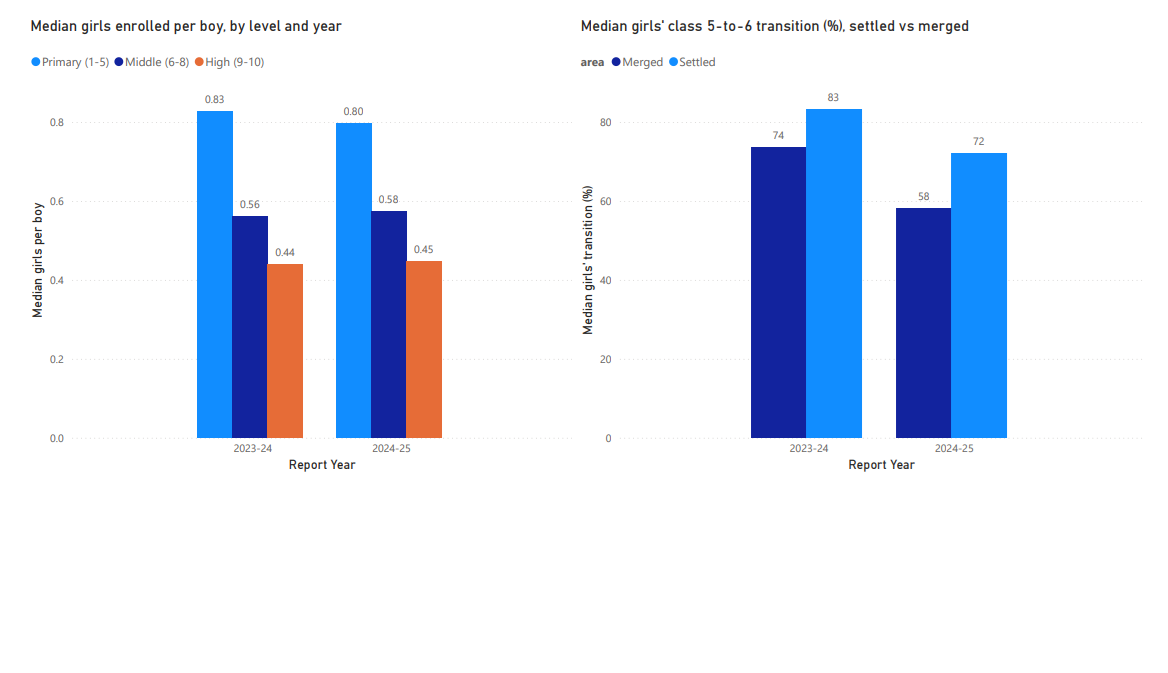

Layout of this report page (visuals, bound fields, positions):
{"tool":"powerbi","page":{"name":"Page 2","canvas":[1280,720],"ordinal":1},"visuals":[{"type":"clusteredColumnChart","title":"Median girls enrolled per boy, by level and year","fields":{"Category":["public v_unit_year.report_year"],"Y":["Median(public v_unit_year.gpb_primary)","Median(public v_unit_year.gpb_middle)","Median(public v_unit_year.gpb_high)"]},"box":[9.6,0,623,518.7],"z":0},{"type":"clusteredColumnChart","title":"Median girls'' class 5-to-6 transition (%), settled vs merged","fields":{"Category":["public v_unit_year.report_year"],"Series":["public v_unit_year.area"],"Y":["Median(public v_unit_year.trans_girls)"]},"box":[632.6,0,647.7,518.7],"z":1}]}

Visuals, with their boxes in screenshot pixels (x1, y1, x2, y2), scaled from the page's 1280x720 canvas onto the 1168x673 screenshot:
"Median girls enrolled per boy, by level and year" clusteredColumnChart: select_region(9, 0, 577, 485)
"Median girls'' class 5-to-6 transition (%), settled vs merged" clusteredColumnChart: select_region(577, 0, 1167, 485)
